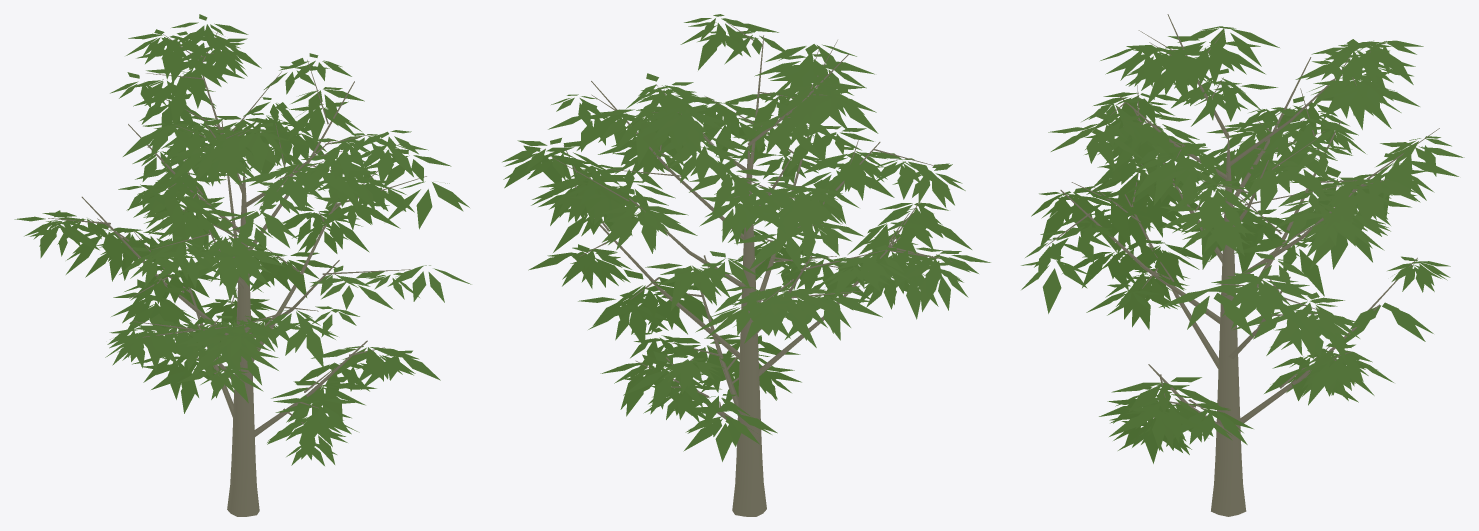
The model's file is Blender_BayLaurel_1.glb.
3 renders of one model, left to right at view 1: azimuth 30°, elevation 25°; view 2: azimuth 150°, elevation 25°; view 3: azimuth 270°, elevation 25°, orthographic. The views are drawn at different scales.
Visible parts, largest first — view 1: Blender_BayLaurel_1; view 2: Blender_BayLaurel_1; view 3: Blender_BayLaurel_1.
Boxes of the visible parts, bbox=[...] form: Blender_BayLaurel_1: bbox=[14, 14, 471, 516]; Blender_BayLaurel_1: bbox=[502, 14, 990, 516]; Blender_BayLaurel_1: bbox=[1021, 14, 1464, 516].
Bounding box in the file's own units: 14.8 × 15.51 × 13.13.
